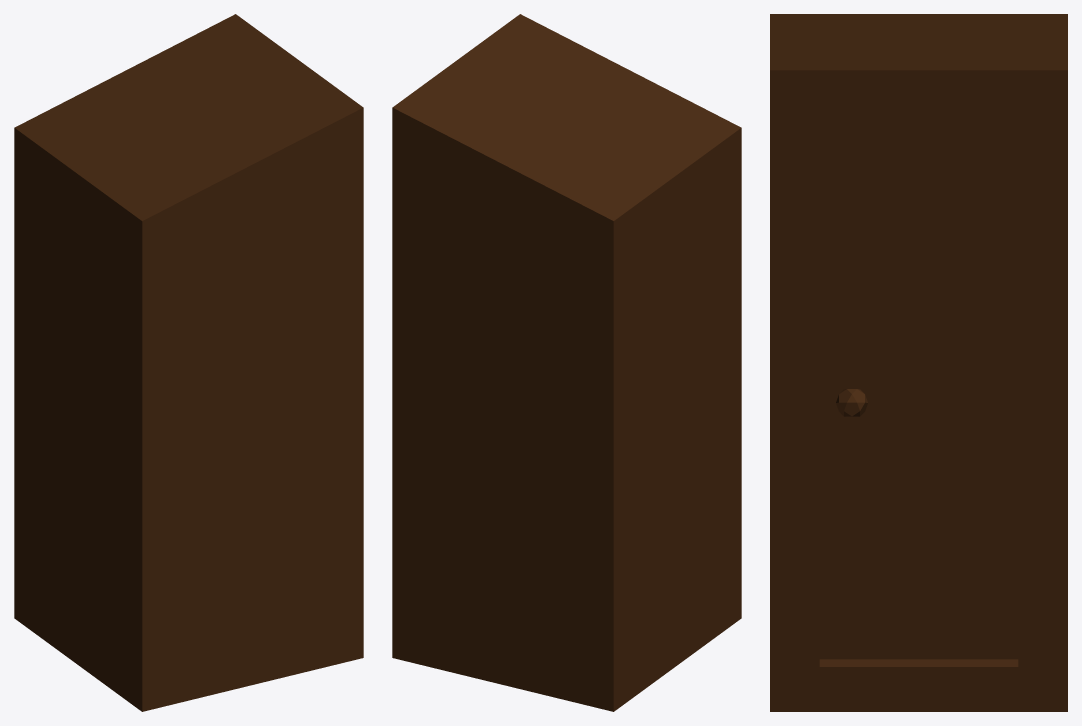
File: Outhouse.fbx
3 renders of one model, left to right at view 1: azimuth 30°, elevation 25°; view 2: azimuth 150°, elevation 25°; view 3: azimuth 270°, elevation 25°, orthographic. The views are drawn at different scales.
Visible parts, largest first — view 1: Cube; view 2: Cube; view 3: Cube.
Part boxes in pixels (x1=…): Cube: x1=14, y1=14, x2=363, y2=711; Cube: x1=392, y1=14, x2=741, y2=711; Cube: x1=770, y1=14, x2=1067, y2=711.
Size of the model in its own units: 179 by 414 by 174.
